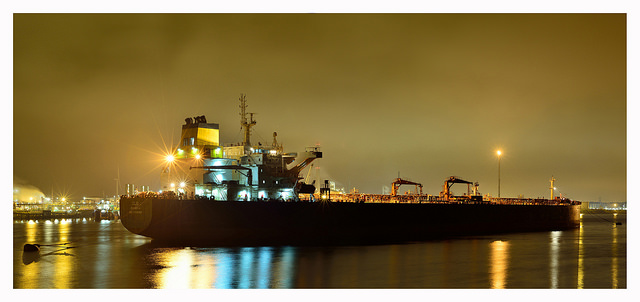tanker: (118, 98, 585, 241)
